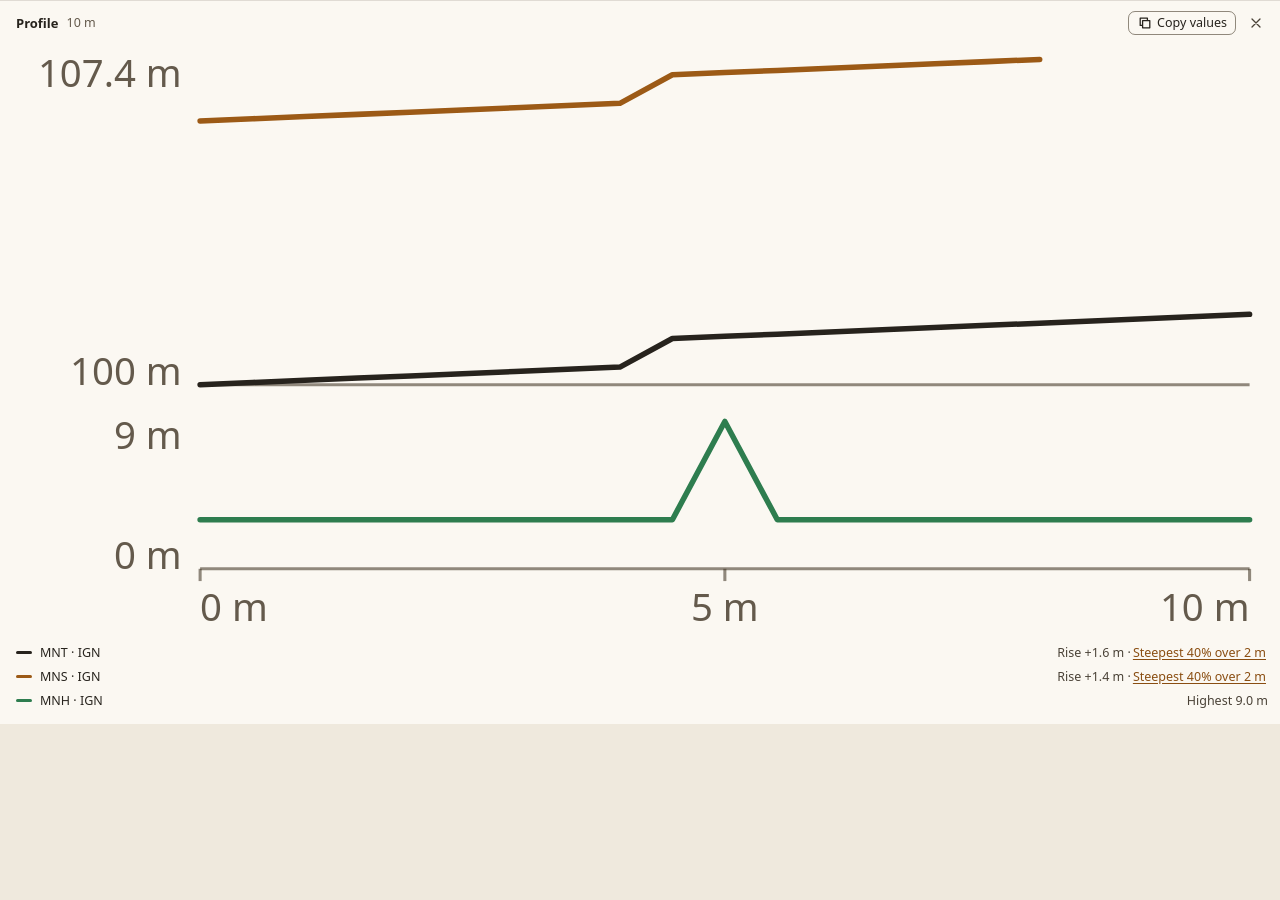
Test: ProfileChart › a refused write says the values could not be copied
This screenshot has width=1280, height=900.
Click the button "Copy values": (1182, 23) [1128,11,1236,35]
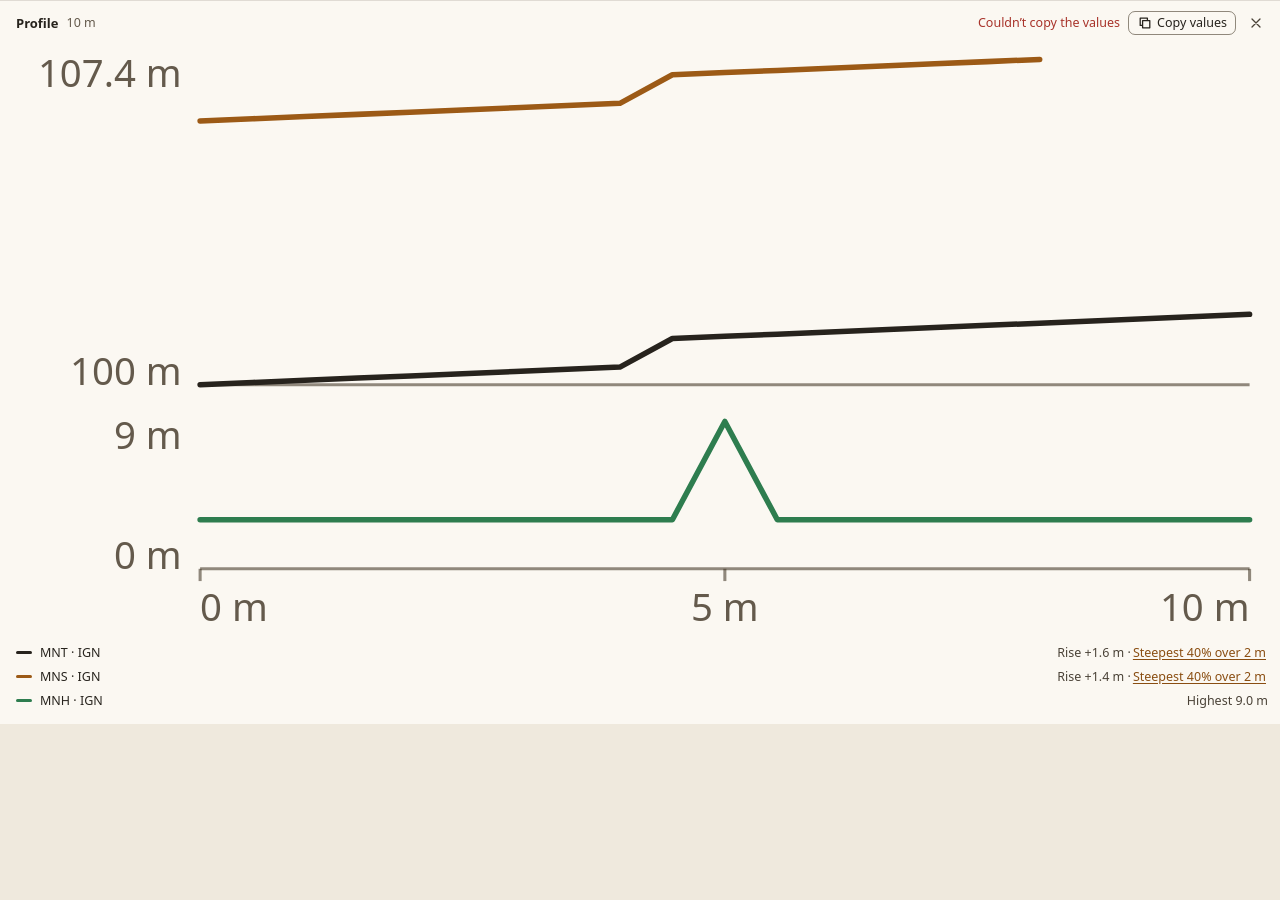
Result: the text "Couldn’t copy the values" is shown at [978,14,1120,32]
